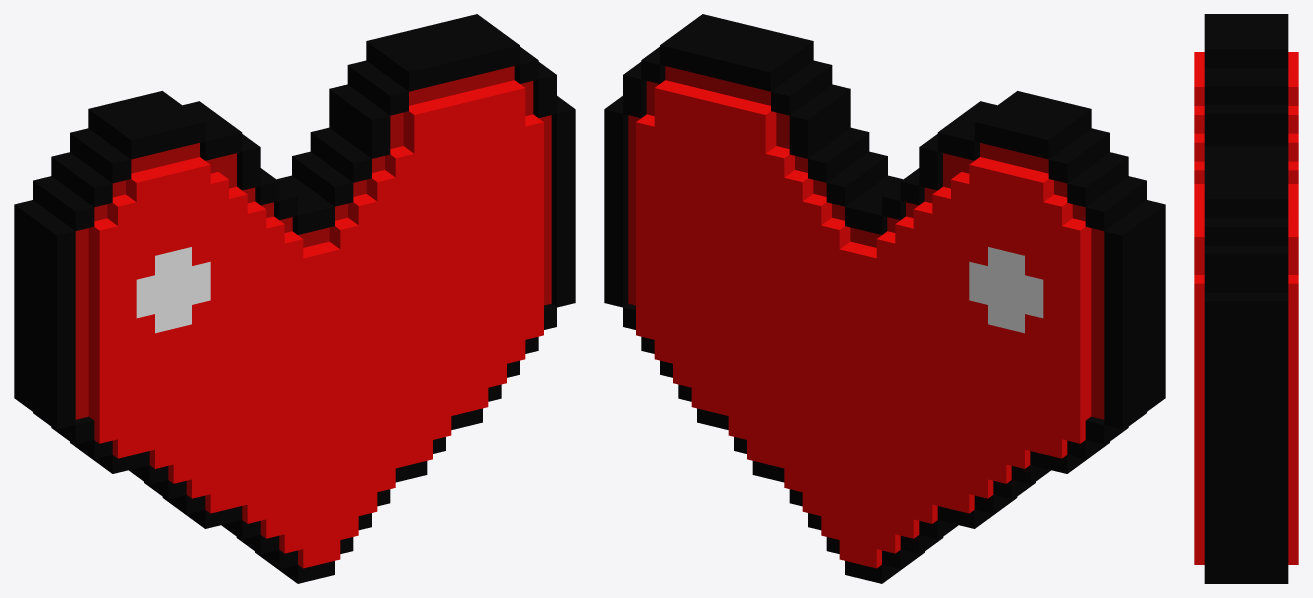
The model's file is Heart.glb.
3 views of the same model, side by side, from view 1: azimuth 30°, elevation 25°; view 2: azimuth 150°, elevation 25°; view 3: azimuth 270°, elevation 25° (orthographic). The views are drawn at different scales.
Parts seen in each view (by area): view 1: DONOTCOPY_HeartSprite; view 2: DONOTCOPY_HeartSprite; view 3: DONOTCOPY_HeartSprite.
Boxes of the visible parts, <box> form: DONOTCOPY_HeartSprite: <box>14,14,575,583</box>; DONOTCOPY_HeartSprite: <box>604,14,1165,583</box>; DONOTCOPY_HeartSprite: <box>1194,14,1298,583</box>.
Size of the model in its own units: 0.7 by 0.625 by 0.125.
1 material, 1 textured.
